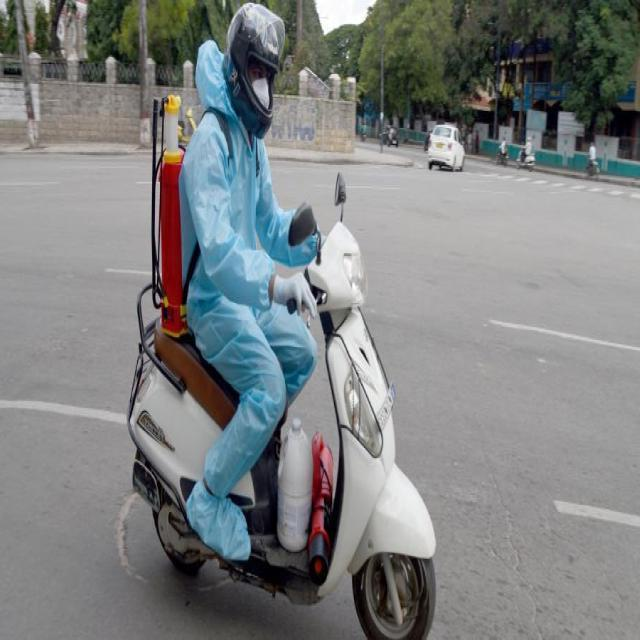gloves: (270, 268, 320, 323)
